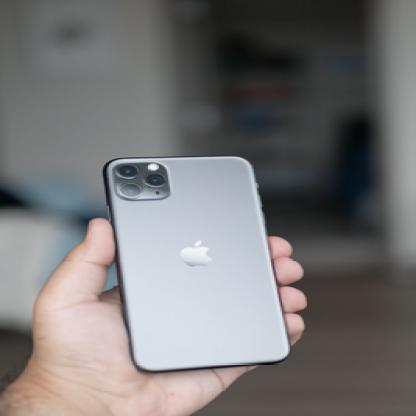cell-phone: (90, 153, 307, 373)
